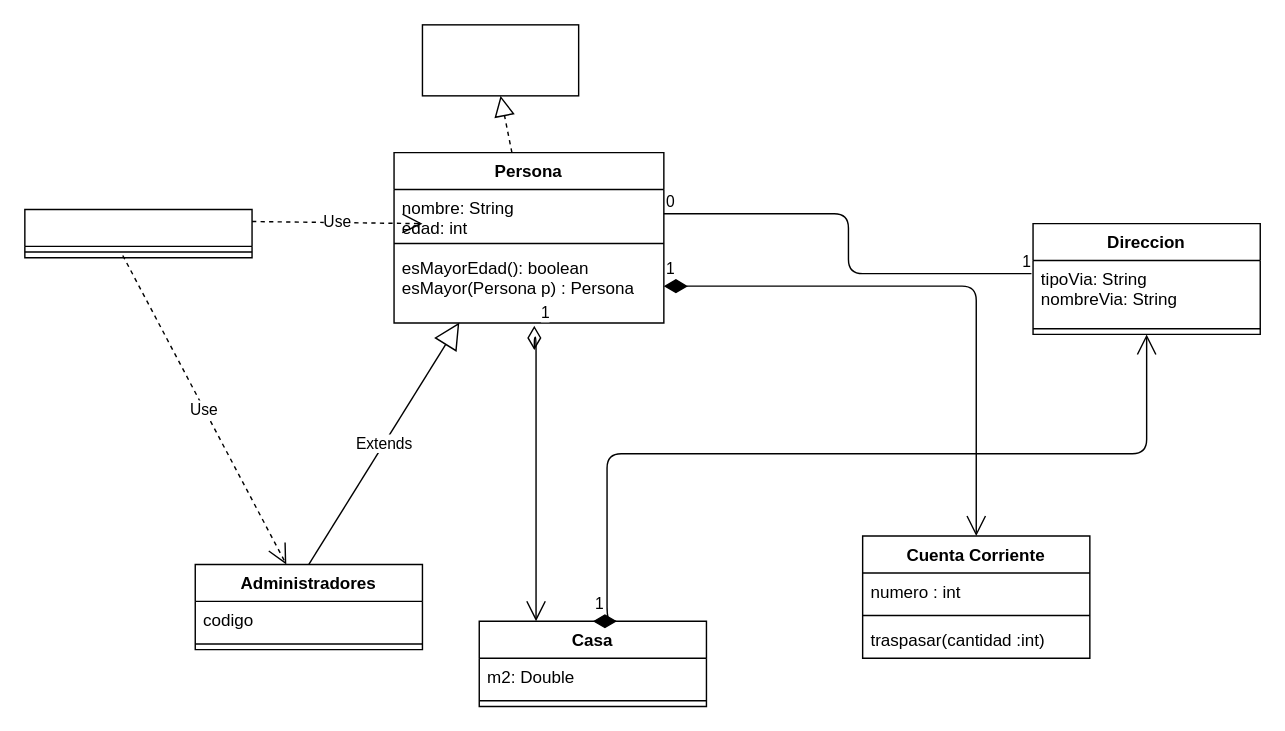
This 1285x731 diagram has some shape labels left out. Each missing label, with the centre of its shape:
"Main" goes at (137,233).
"«interface» Movible" goes at (500,59).
